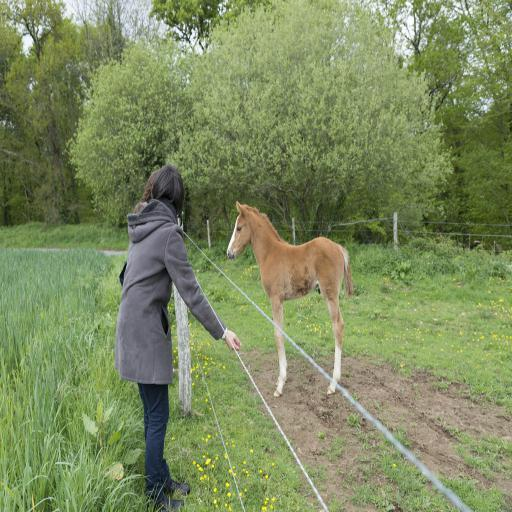Horse: (224, 200, 355, 396)
